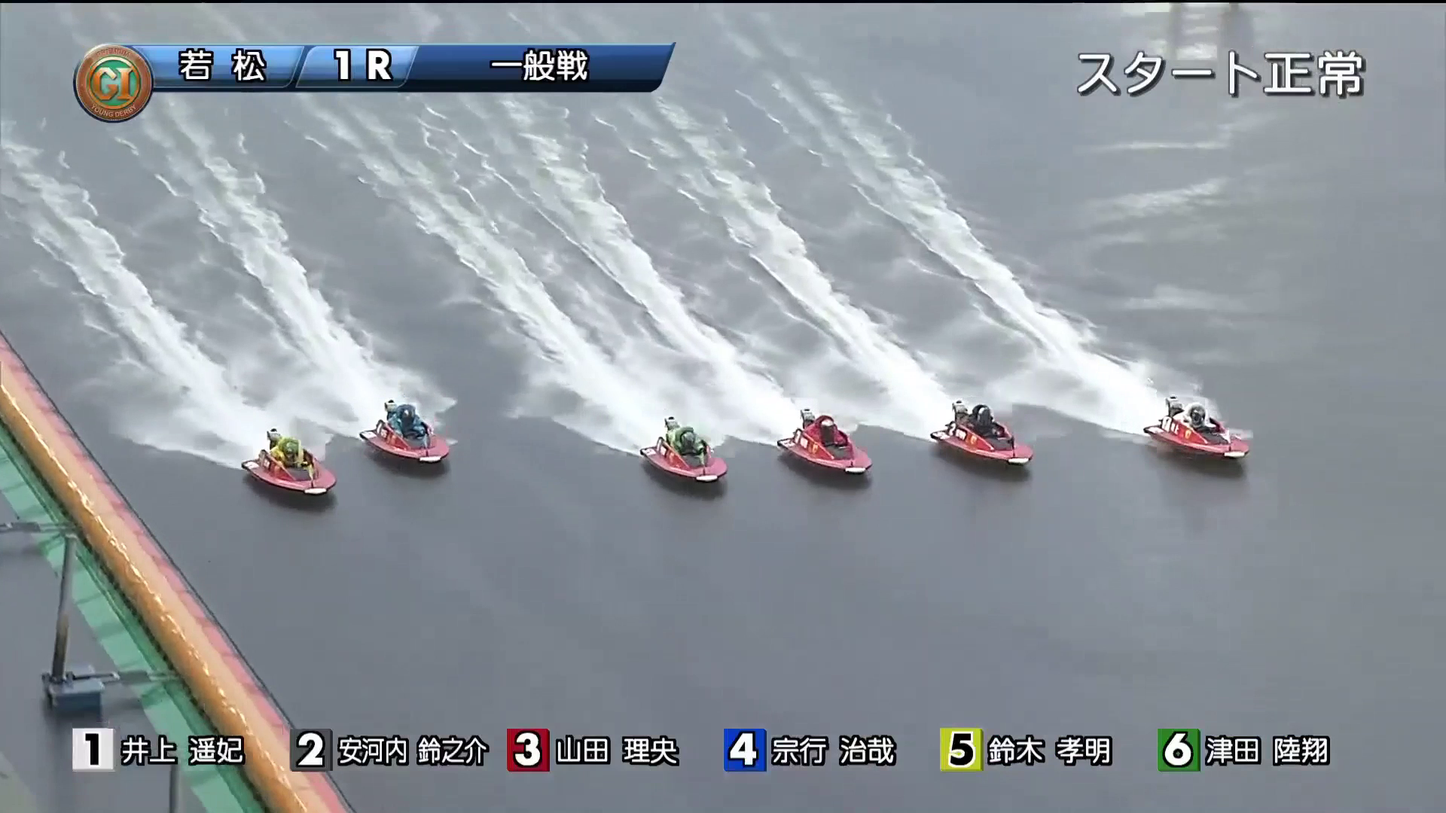１号艇: (1155, 389, 1251, 433)
２号艇: (944, 399, 1042, 441)
３号艇: (782, 425, 883, 467)
４号艇: (631, 423, 739, 471)
５号艇: (346, 396, 467, 451)
６号艇: (258, 442, 358, 499)
